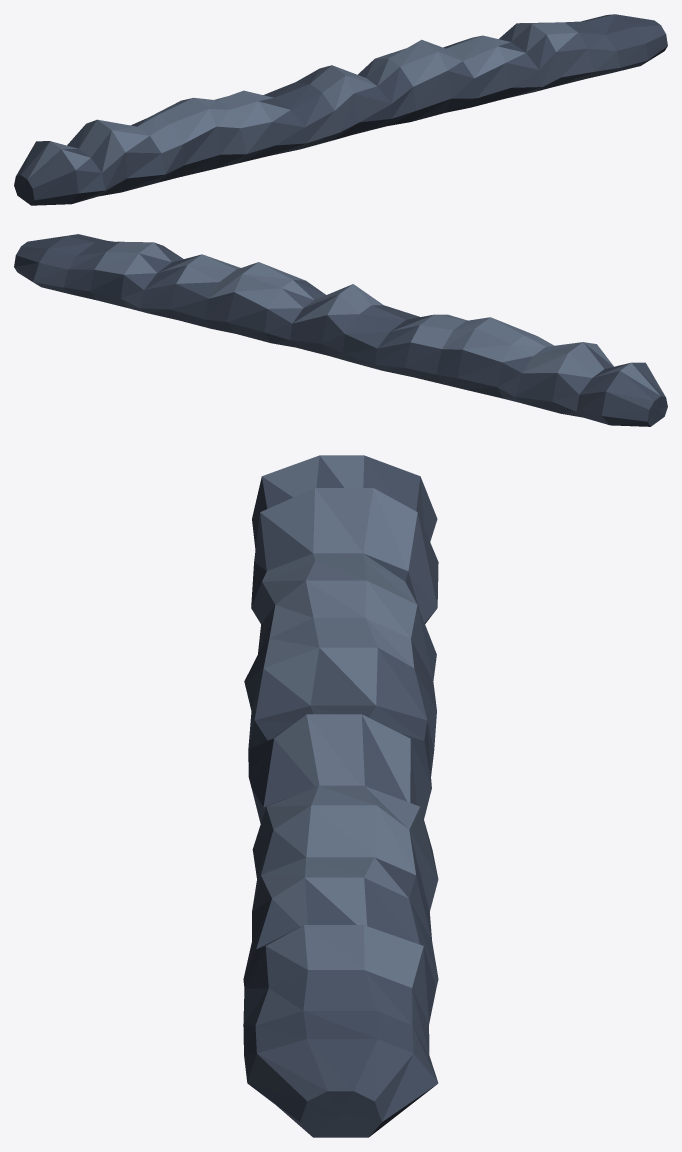
Rendered from ledge_z1_rock_long.glb.
The picture shows the model from 3 angles, top to bottom: view 1: azimuth 30°, elevation 25°; view 2: azimuth 150°, elevation 25°; view 3: azimuth 270°, elevation 25°; orthographic projection. The views are drawn at different scales.
Parts seen in each view (by area): view 1: ledge_z1_rock_long; view 2: ledge_z1_rock_long; view 3: ledge_z1_rock_long.
Part boxes in pixels (left/top/right/bottom): ledge_z1_rock_long: left=14, top=14, right=667, bottom=205; ledge_z1_rock_long: left=14, top=234, right=667, bottom=426; ledge_z1_rock_long: left=243, top=455, right=438, bottom=1137.
Bounding box in the file's own units: 12 × 1 × 1.6.
